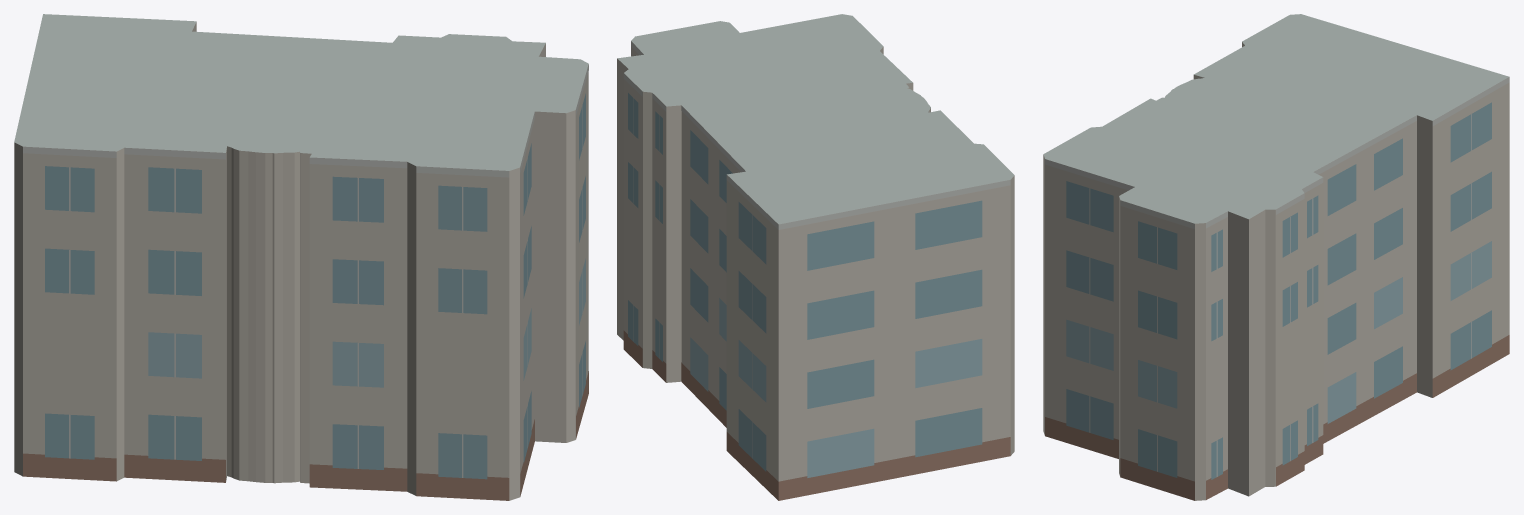
File: survey-upis-33046870.glb
3 renders of one model, left to right at view 1: azimuth 30°, elevation 25°; view 2: azimuth 150°, elevation 25°; view 3: azimuth 270°, elevation 25°, orthographic. The views are drawn at different scales.
Visible parts, largest first — view 1: survey-upis-33046870.tmp; view 2: survey-upis-33046870.tmp; view 3: survey-upis-33046870.tmp.
Boxes of the visible parts, x1,y1,x2,y2 form: survey-upis-33046870.tmp: [14, 14, 588, 500]; survey-upis-33046870.tmp: [617, 14, 1014, 500]; survey-upis-33046870.tmp: [1043, 14, 1509, 500].
Bounding box in the file's own units: 19.8 × 12.2 × 18.6.
